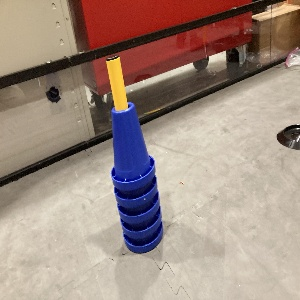Blue_5: (109, 102, 164, 255)
